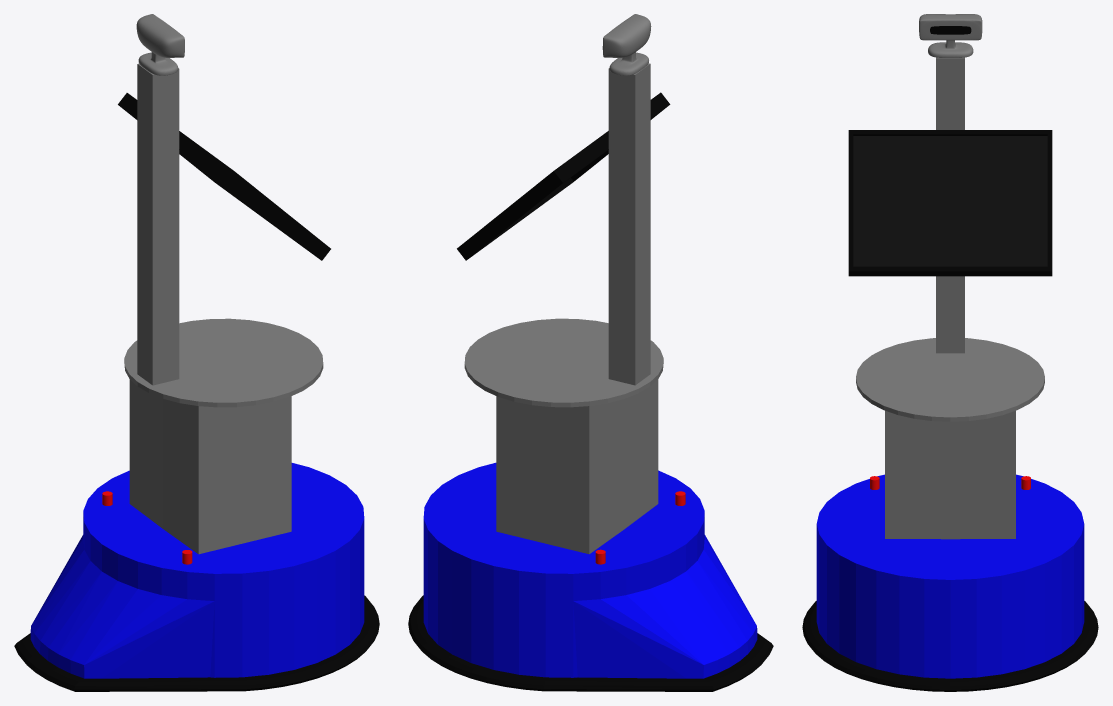
Rendered from sara_uw2.obj.
3 views of the same model, side by side, from view 1: azimuth 30°, elevation 25°; view 2: azimuth 150°, elevation 25°; view 3: azimuth 270°, elevation 25° (orthographic). The views are drawn at different scales.
Parts seen in each view (by area): view 1: Base_Cylinder, Computer_Cube, Beam, Lower_Platform, Bumpers_Torus, Display_Cube.002, Cube_Cube.001; view 2: Base_Cylinder, Computer_Cube, Beam, Lower_Platform, Bumpers_Torus, Display_Cube.002, Cube_Cube.001; view 3: Base_Cylinder, DisplayScreen_Cube.004, Computer_Cube, Lower_Platform, Bumpers_Torus, Display_Cube.002, Beam, Cube_Cube.001.
Part boxes in pixels (bbox=[...]): Base_Cylinder: bbox=[30, 463, 364, 678]; Computer_Cube: bbox=[129, 379, 291, 554]; Beam: bbox=[137, 63, 179, 385]; Lower_Platform: bbox=[124, 318, 323, 407]; Bumpers_Torus: bbox=[14, 595, 379, 691]; Display_Cube.002: bbox=[118, 93, 330, 260]; Cube_Cube.001: bbox=[136, 14, 184, 75]; Base_Cylinder: bbox=[423, 462, 757, 678]; Computer_Cube: bbox=[496, 379, 658, 554]; Beam: bbox=[608, 63, 650, 385]; Lower_Platform: bbox=[464, 318, 663, 407]; Bumpers_Torus: bbox=[408, 595, 773, 691]; Display_Cube.002: bbox=[457, 92, 670, 260]; Cube_Cube.001: bbox=[602, 14, 651, 75]; Base_Cylinder: bbox=[816, 474, 1084, 678]; DisplayScreen_Cube.004: bbox=[853, 136, 1047, 266]; Computer_Cube: bbox=[885, 410, 1015, 539]; Lower_Platform: bbox=[856, 338, 1044, 421]; Bumpers_Torus: bbox=[802, 601, 1098, 691]; Display_Cube.002: bbox=[848, 130, 1052, 276]; Beam: bbox=[936, 57, 964, 353]; Cube_Cube.001: bbox=[919, 14, 982, 57].
Size of the model in its own units: 0.7344 by 1.34 by 0.61.
